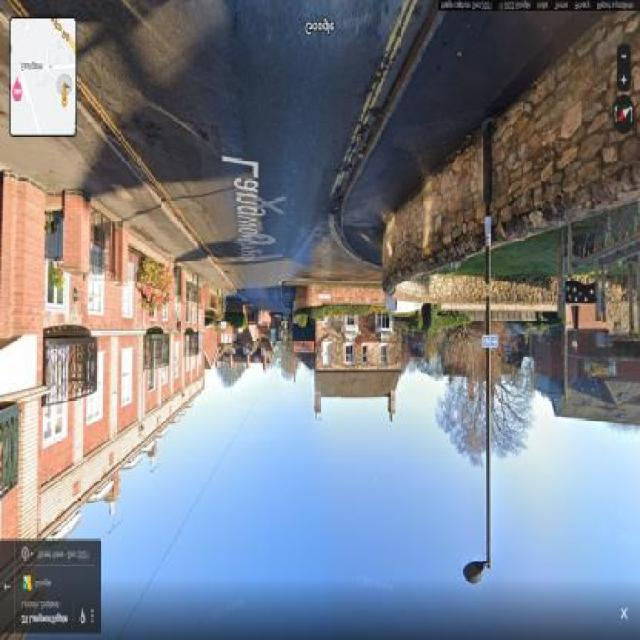pole: (463, 135, 500, 583)
